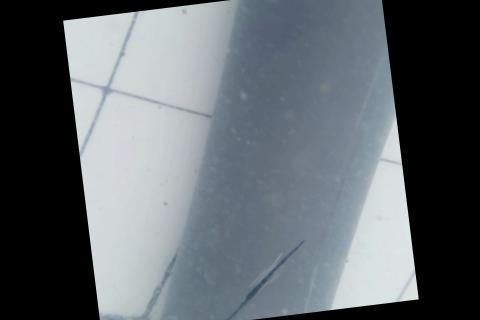keretakan: (174, 240, 312, 320)
